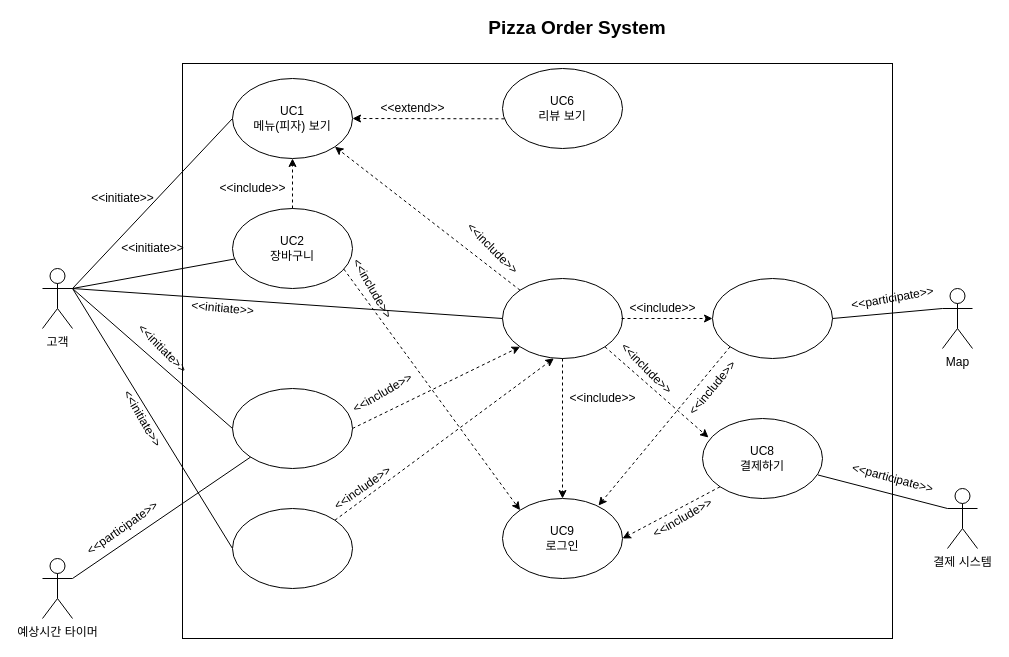
This 1009x657 diagram has some shape labels left out. The centre of each missing label's shape, as x and y in pixels:
"UC3 주문하기" goes at [562,318].
"UC4 주문 정보 확인" goes at [292,428].
"UC5 리뷰 작성하기" goes at [292,548].
"UC7 수령 방법 입력" goes at [772,318].
